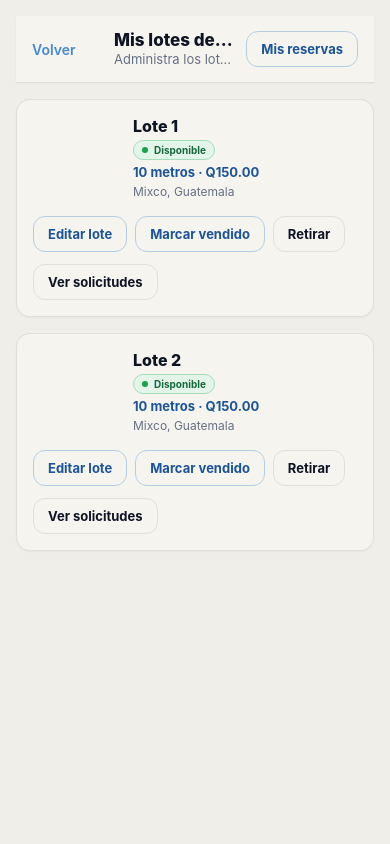
MyMaterialListingsScreen — solicitudes del vendedor › carga solo las solicitudes del lote abierto y muestra las acciones que da el backend
This screenshot has width=390, height=844.
Expected: the text "Lote 1" is shown, x1=133 y1=116 x2=178 y2=136
Click the text "Ver solicitudes" below "Lote 1" at (95, 282), box x1=48 y1=274 x2=143 y2=290
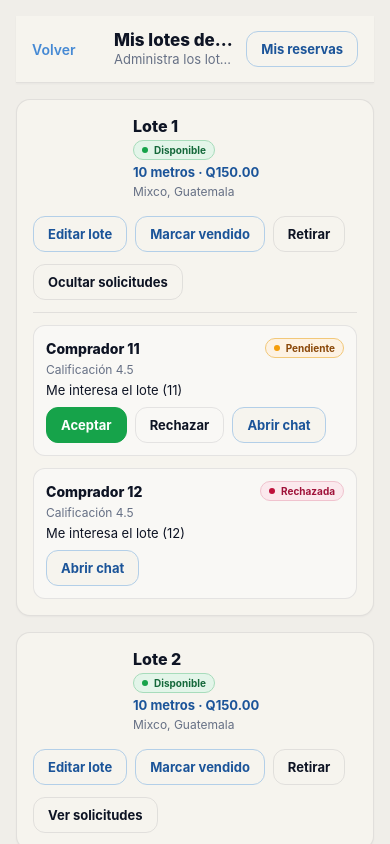
Expected: the text "Comprador 11" is shown, x1=46 y1=340 x2=140 y2=356
Expected: the text "Aceptar" is shown, x1=61 y1=417 x2=112 y2=433
Expected: the text "Rechazar" is shown, x1=150 y1=417 x2=209 y2=433
